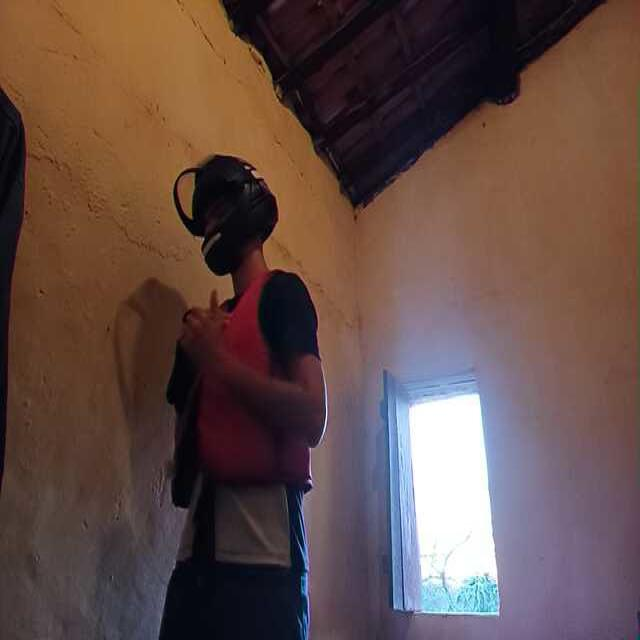capacete: (173, 153, 280, 266)
colete: (193, 273, 318, 497)
pessoa: (178, 211, 319, 638)
